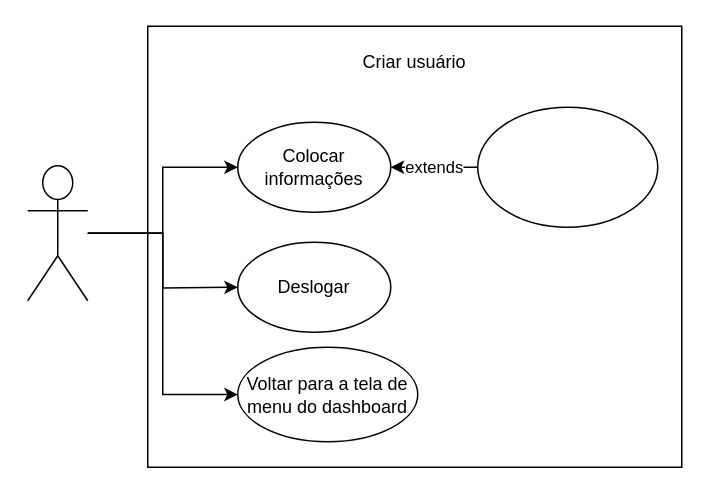
Image size: 708x494. Some labels were removed from this diagram. The shapes that lost their labels are listed below. From the top down, each one's centre as x and y in pixels, then its label:
At point (567, 166): "Colocar usuário como administrador".
At point (57, 232): "Gerente".
